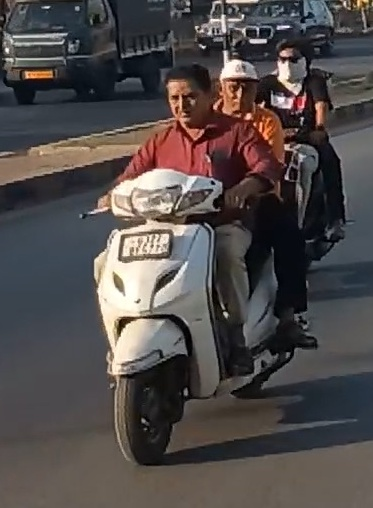BikeWithRider: (77, 50, 320, 466), (235, 33, 360, 269)
NoHelmet: (156, 61, 216, 128), (214, 58, 265, 116), (272, 39, 309, 85)
